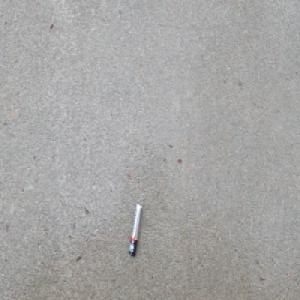Battery: (127, 201, 142, 258)
